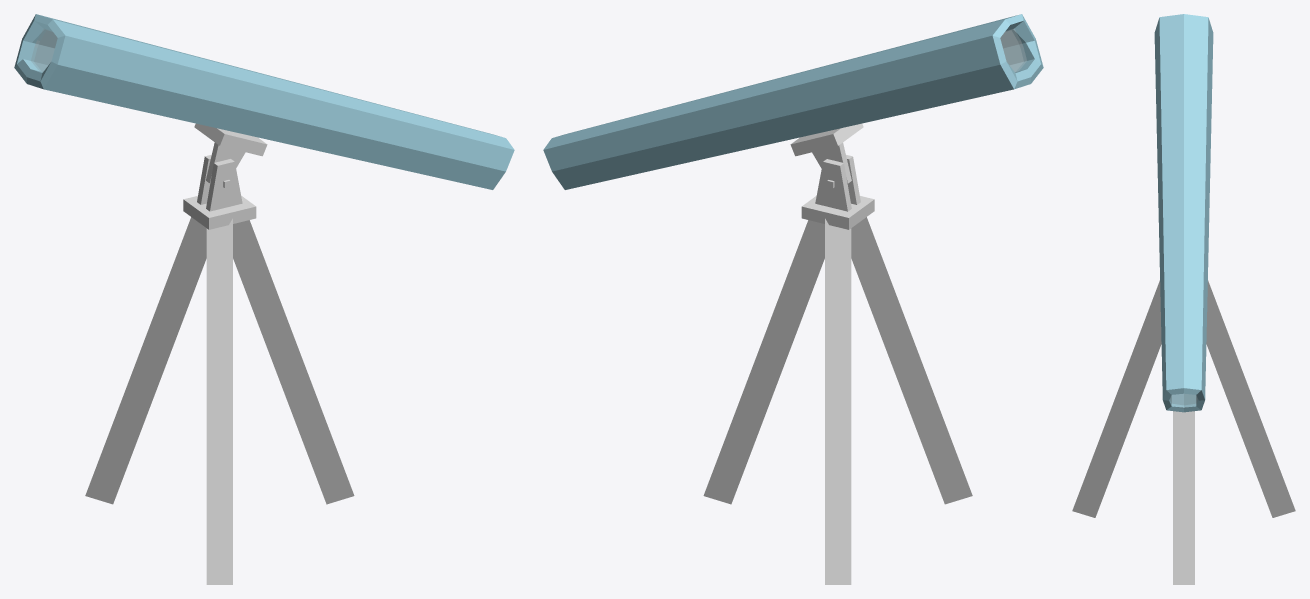
File: Телескоп.fbx
3 renders of one model, left to right at view 1: azimuth 30°, elevation 25°; view 2: azimuth 150°, elevation 25°; view 3: azimuth 270°, elevation 25°, orthographic. The views are drawn at different scales.
Visible parts, largest first — view 1: Куб.002; view 2: Куб.002; view 3: Куб.002.
Part boxes in pixels (bbox=[...]): Куб.002: bbox=[14, 14, 514, 584]; Куб.002: bbox=[543, 14, 1043, 584]; Куб.002: bbox=[1072, 14, 1295, 584].
Size of the model in its own units: 844 by 928 by 410.
